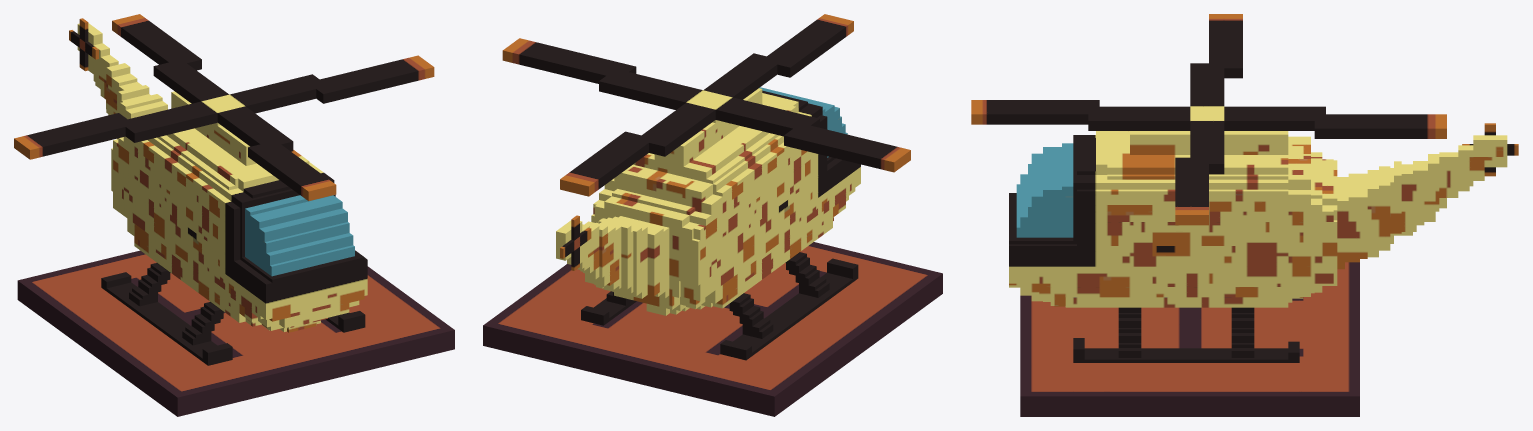
Rendered from Helicopter.fbx.
The picture shows the model from 3 angles, left to right: view 1: azimuth 30°, elevation 25°; view 2: azimuth 150°, elevation 25°; view 3: azimuth 270°, elevation 25°; orthographic projection. The views are drawn at different scales.
Parts seen in each view (by area): view 1: Object; view 2: Object; view 3: Object.
Part boxes in pixels (x1,y1,x2,y2): Object: (14, 14, 454, 416); Object: (483, 14, 942, 416); Object: (971, 14, 1518, 416).
Bounding box in the file's own units: 126 × 67 × 145.
